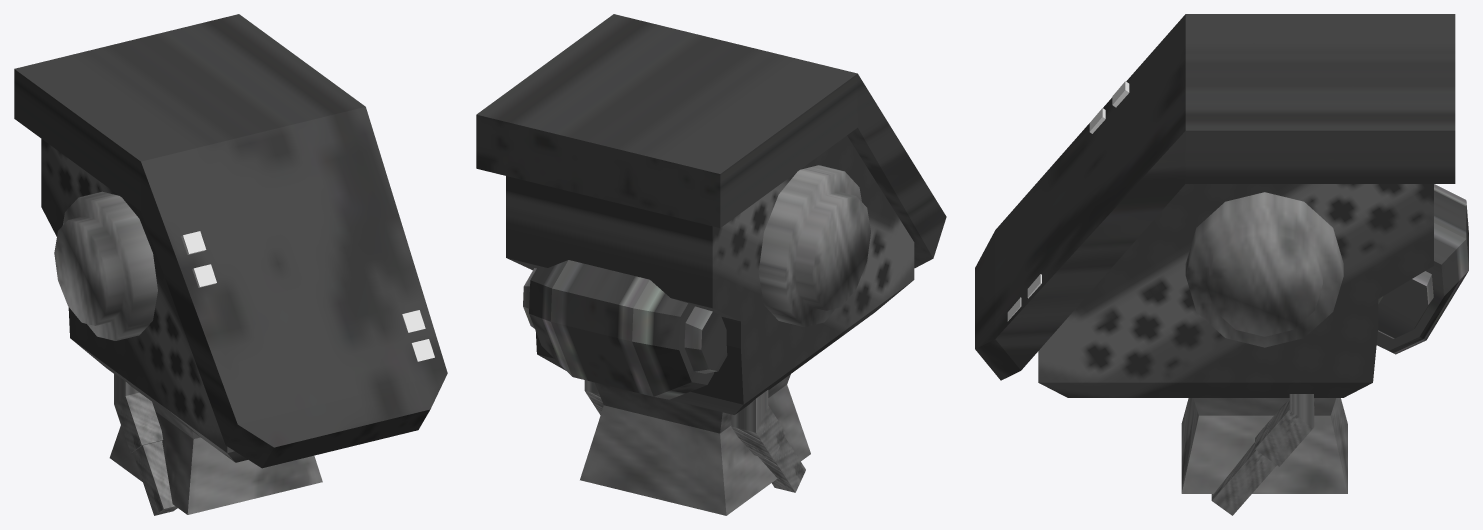
Rendered from Robot 9 head.fbx.
3 renders of one model, left to right at view 1: azimuth 30°, elevation 25°; view 2: azimuth 150°, elevation 25°; view 3: azimuth 270°, elevation 25°, orthographic. The views are drawn at different scales.
Parts seen in each view (by area): view 1: Cube.052, Cube.014; view 2: Cube.052, Cube.014; view 3: Cube.052, Cube.014.
Boxes of the visible parts, bbox=[...] form: Cube.052: bbox=[14, 14, 447, 468]; Cube.014: bbox=[109, 373, 322, 515]; Cube.052: bbox=[476, 14, 946, 414]; Cube.014: bbox=[580, 374, 810, 515]; Cube.052: bbox=[975, 14, 1468, 397]; Cube.014: bbox=[1181, 394, 1347, 515].
Bounding box in the file's own units: 123 × 166 × 184.
